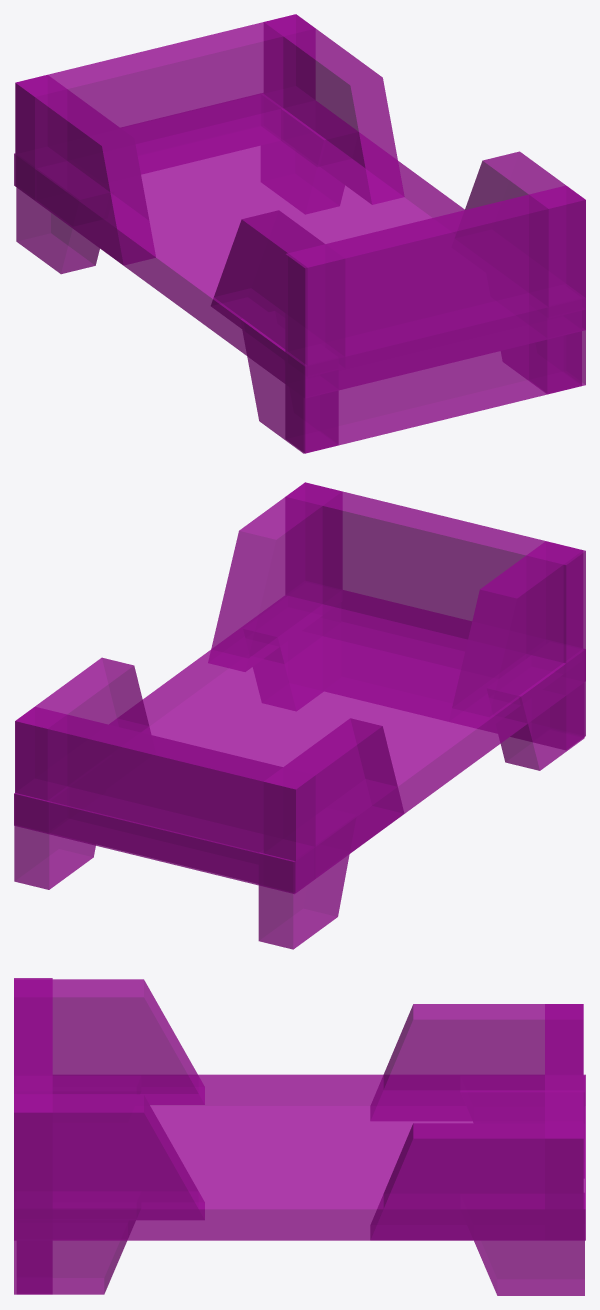
The model's file is SM_Prop_Bed_01_Collision.fbx.
The picture shows the model from 3 angles, top to bottom: view 1: azimuth 30°, elevation 25°; view 2: azimuth 150°, elevation 25°; view 3: azimuth 270°, elevation 25°; orthographic projection.
Parts seen in each view (by area): view 1: SM_Prop_Bed_01_Collision; view 2: SM_Prop_Bed_01_Collision; view 3: SM_Prop_Bed_01_Collision.
Boxes of the visible parts, <box> form: SM_Prop_Bed_01_Collision: <box>14,14,585,453</box>; SM_Prop_Bed_01_Collision: <box>14,482,585,949</box>; SM_Prop_Bed_01_Collision: <box>14,978,585,1295</box>.
Size of the model in its own units: 150 by 95.02 by 269.
